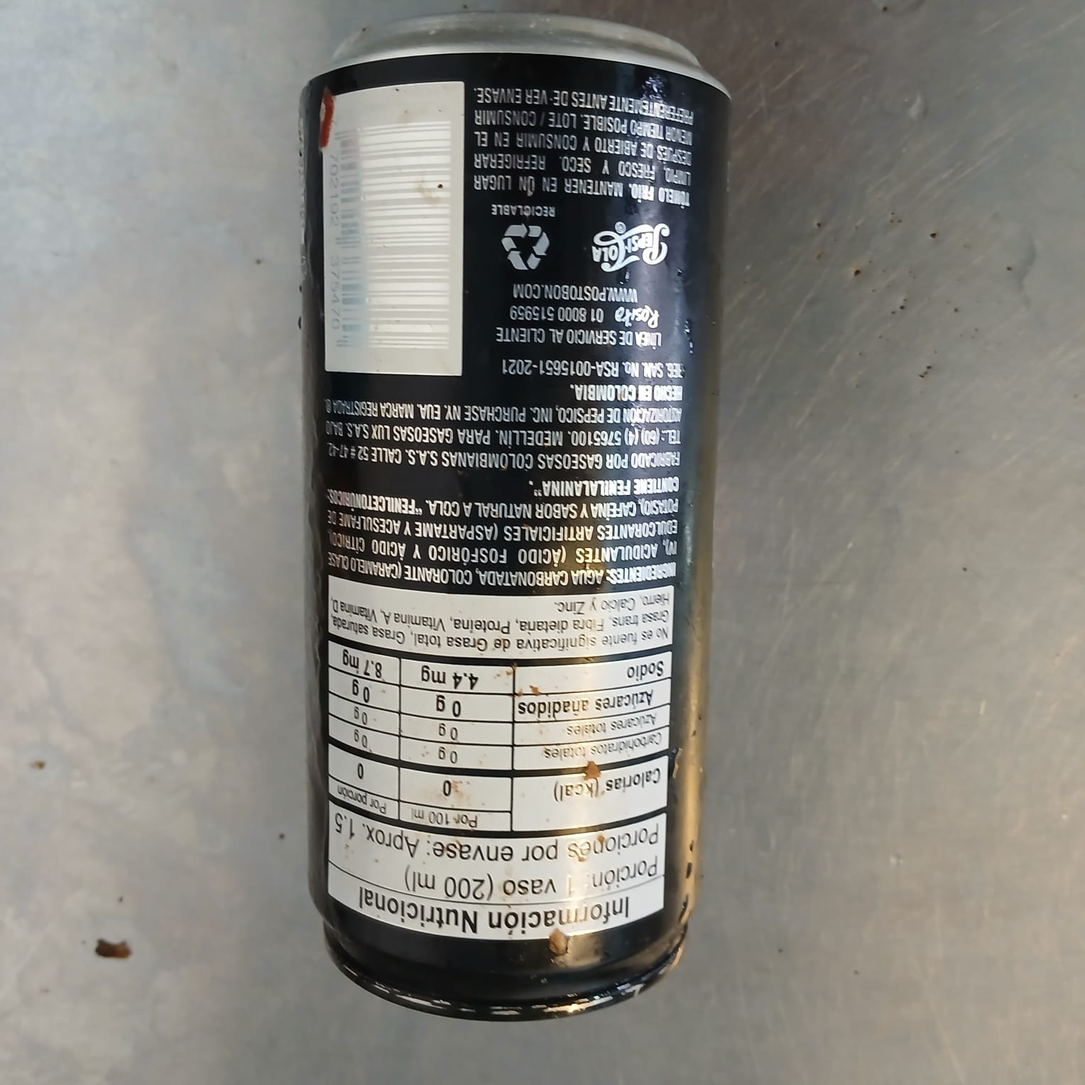Metal: (303, 15, 734, 1017)
